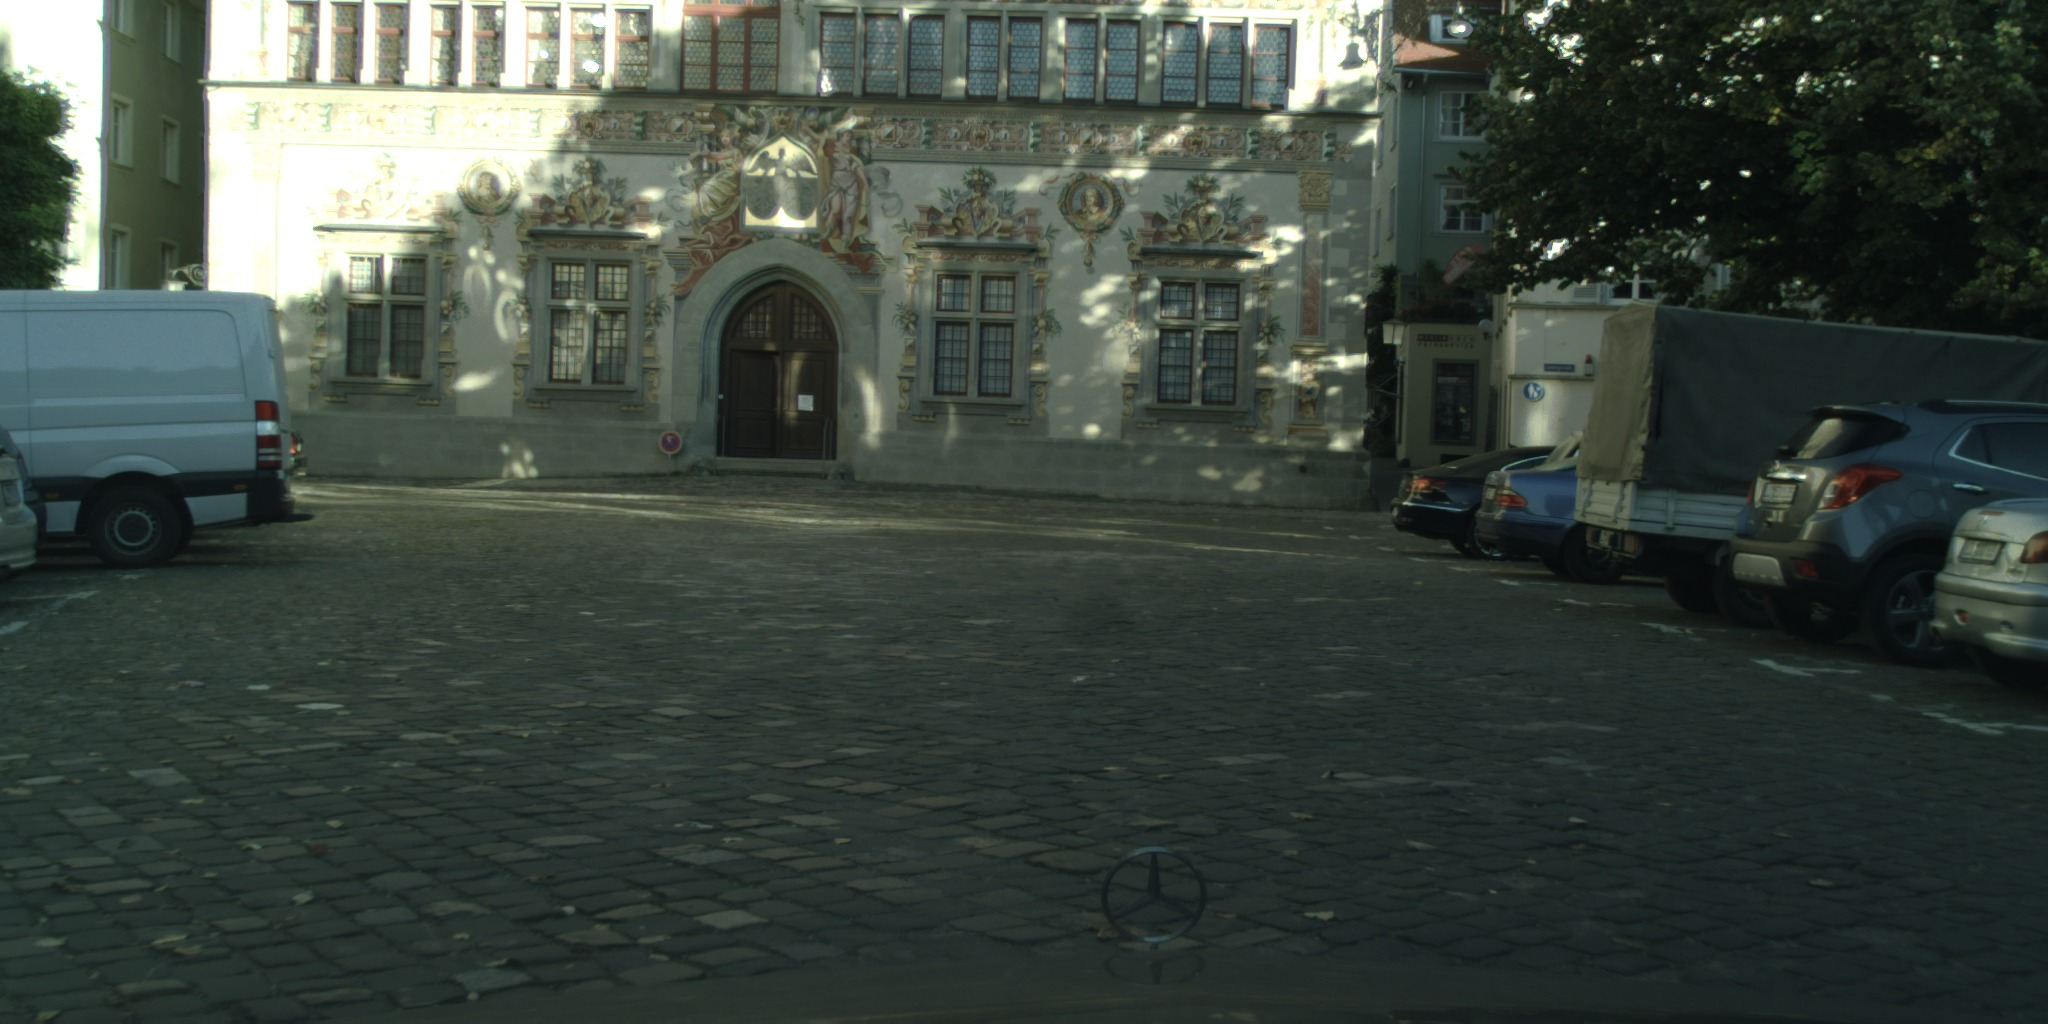car: (0, 289, 315, 571), (1731, 397, 2048, 666), (1924, 496, 2048, 687), (1475, 455, 1627, 586), (1388, 445, 1557, 564), (0, 421, 48, 571), (1539, 431, 1588, 468)
truck: (1573, 299, 2048, 610)
